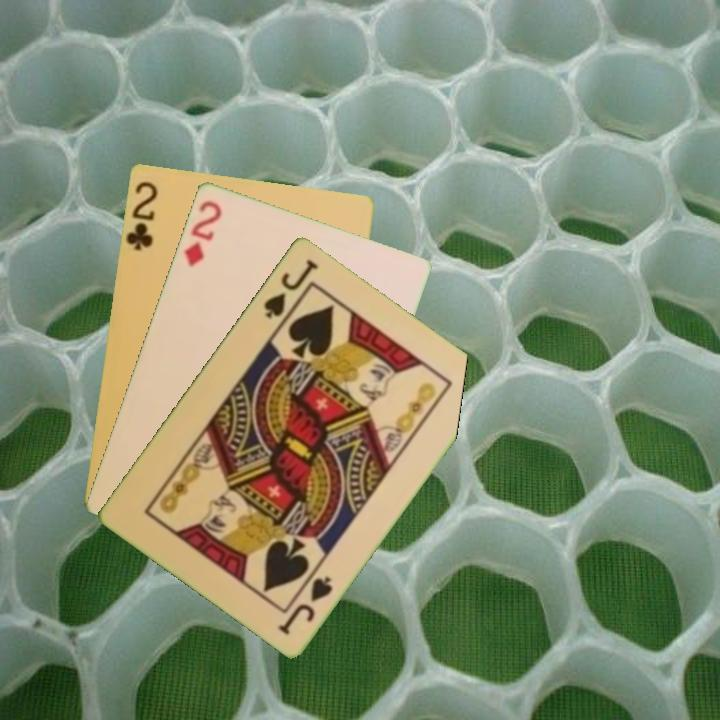2c: (122, 177, 160, 253)
2d: (180, 196, 224, 269)
Js: (259, 255, 321, 321), (274, 571, 336, 637)
